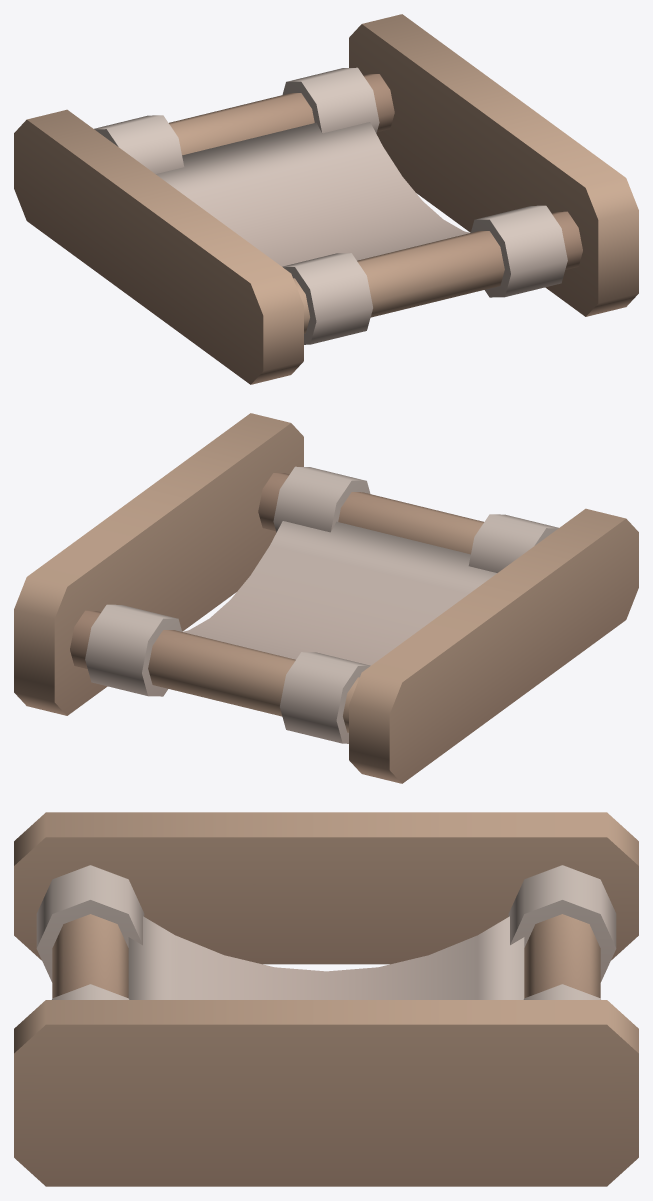
File: cat-shelf-bed (%wall).glb
3 views of the same model, one above another, from view 1: azimuth 30°, elevation 25°; view 2: azimuth 150°, elevation 25°; view 3: azimuth 270°, elevation 25° (orthographic). The views are drawn at different scales.
Parts seen in each view (by area): view 1: cat-shelf-bed (%wall); view 2: cat-shelf-bed (%wall); view 3: cat-shelf-bed (%wall).
Boxes of the visible parts, left/top/right/bottom form: cat-shelf-bed (%wall): left=14, top=14, right=638, bottom=384; cat-shelf-bed (%wall): left=14, top=413, right=638, bottom=783; cat-shelf-bed (%wall): left=14, top=812, right=638, bottom=1186.
Size of the model in its own units: 0.5326 by 0.175 by 0.6125.
